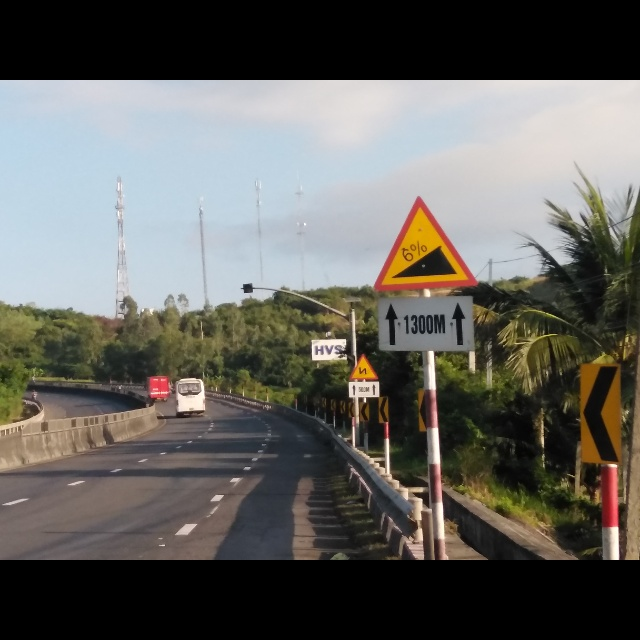Dốc lên nguy hiểm: (371, 192, 479, 293)
Ngoặt nguy hiểm liên tiếp bên phải: (349, 353, 379, 381)
